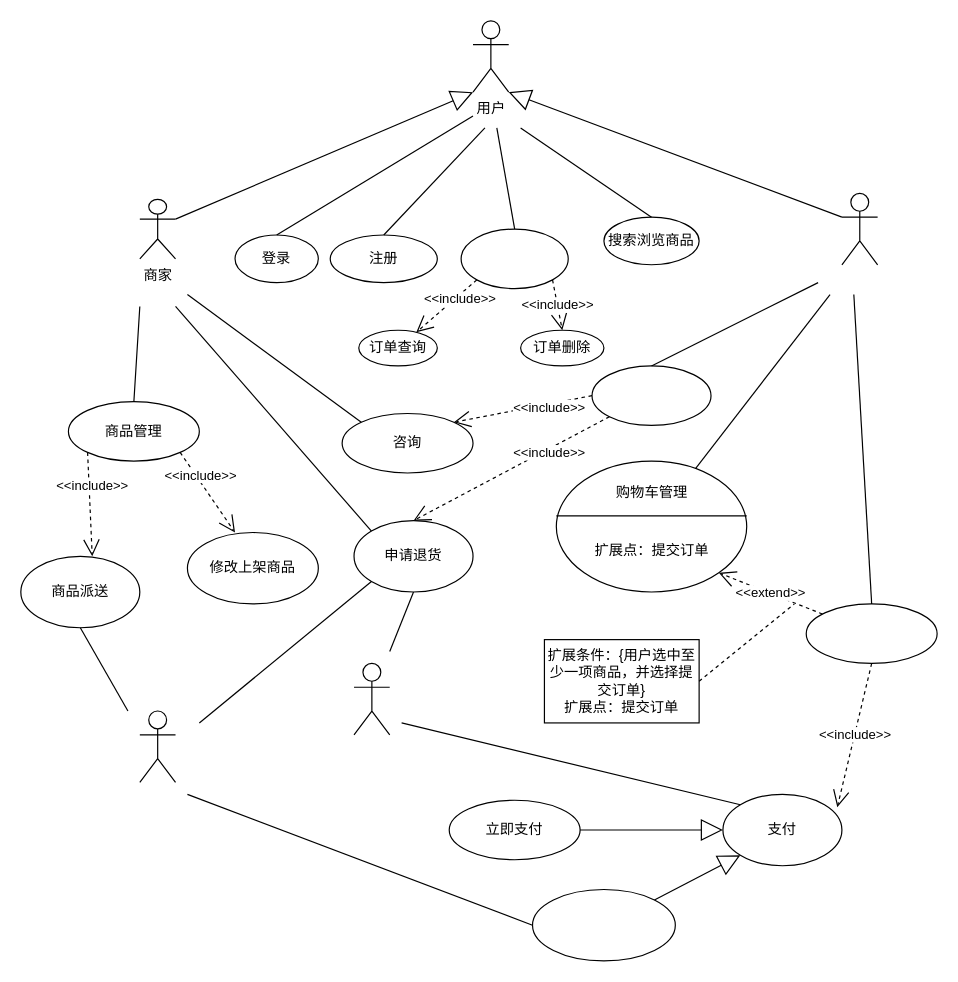
Some shapes in this 958 by 982 pixel diagram are drawn without their labels. Here are the shapes that lost their labels. From the top down, the centre of each, then its label:
point 859,228: 顾客
point 514,258: 订单管理
point 651,395: 售后
point 871,633: 提交订单
point 371,698: 第三方支付平台
point 157,746: 物流
point 603,924: 货到付款
